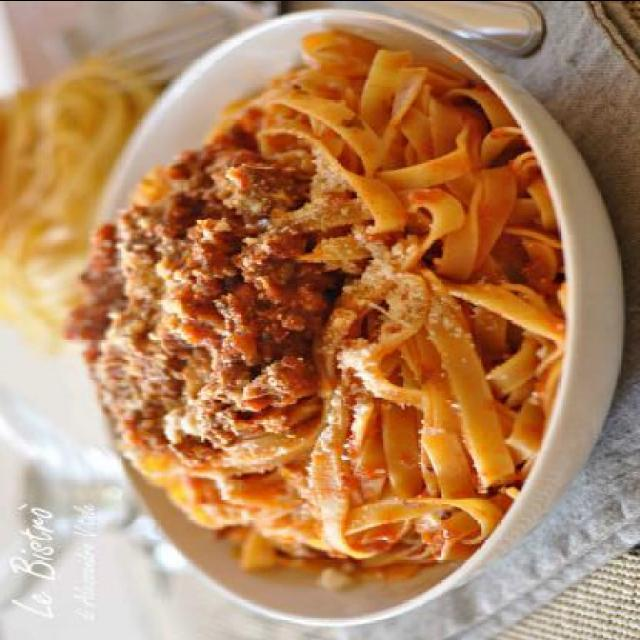Pasta al ragu: (89, 33, 546, 569)
